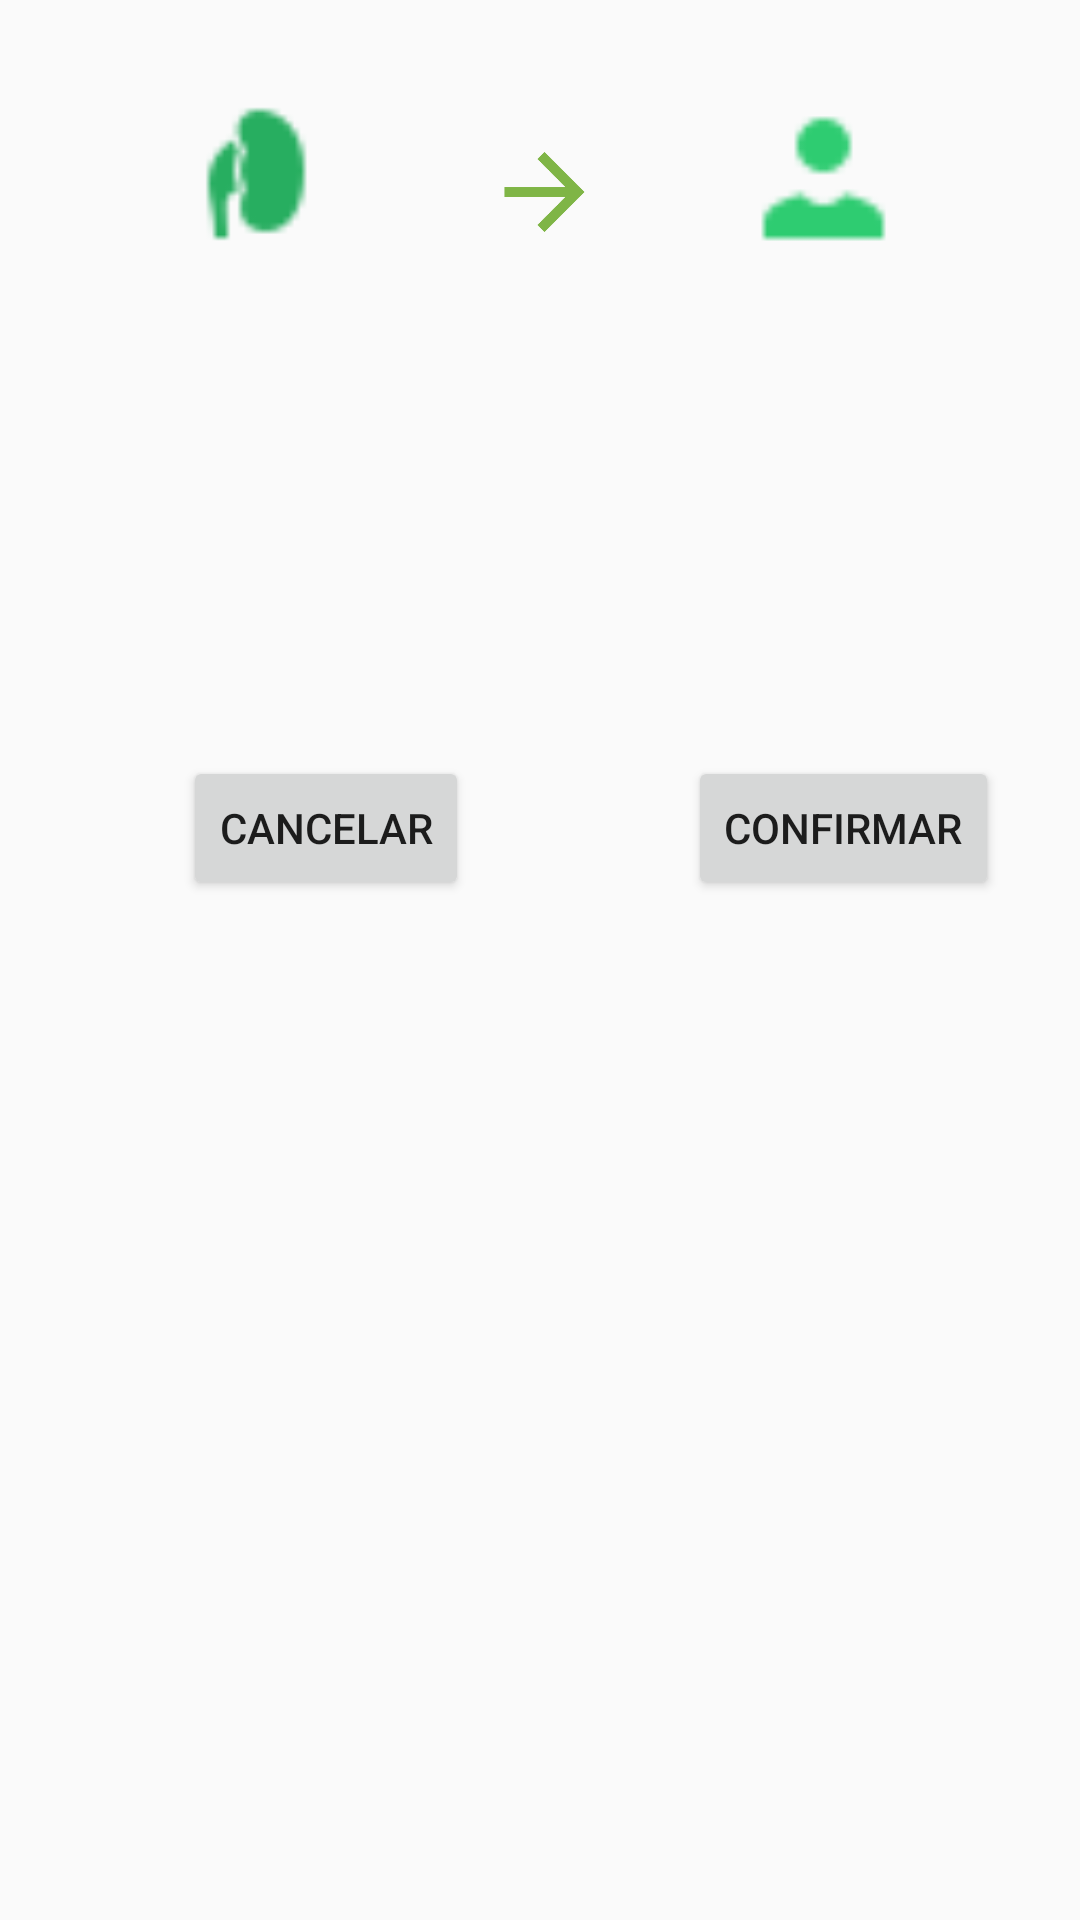

Point at icon controls on the screen. Image size 1080 x 1920, points as [x,y].
arrow forward: [544,192]
usuario: [823,178]
